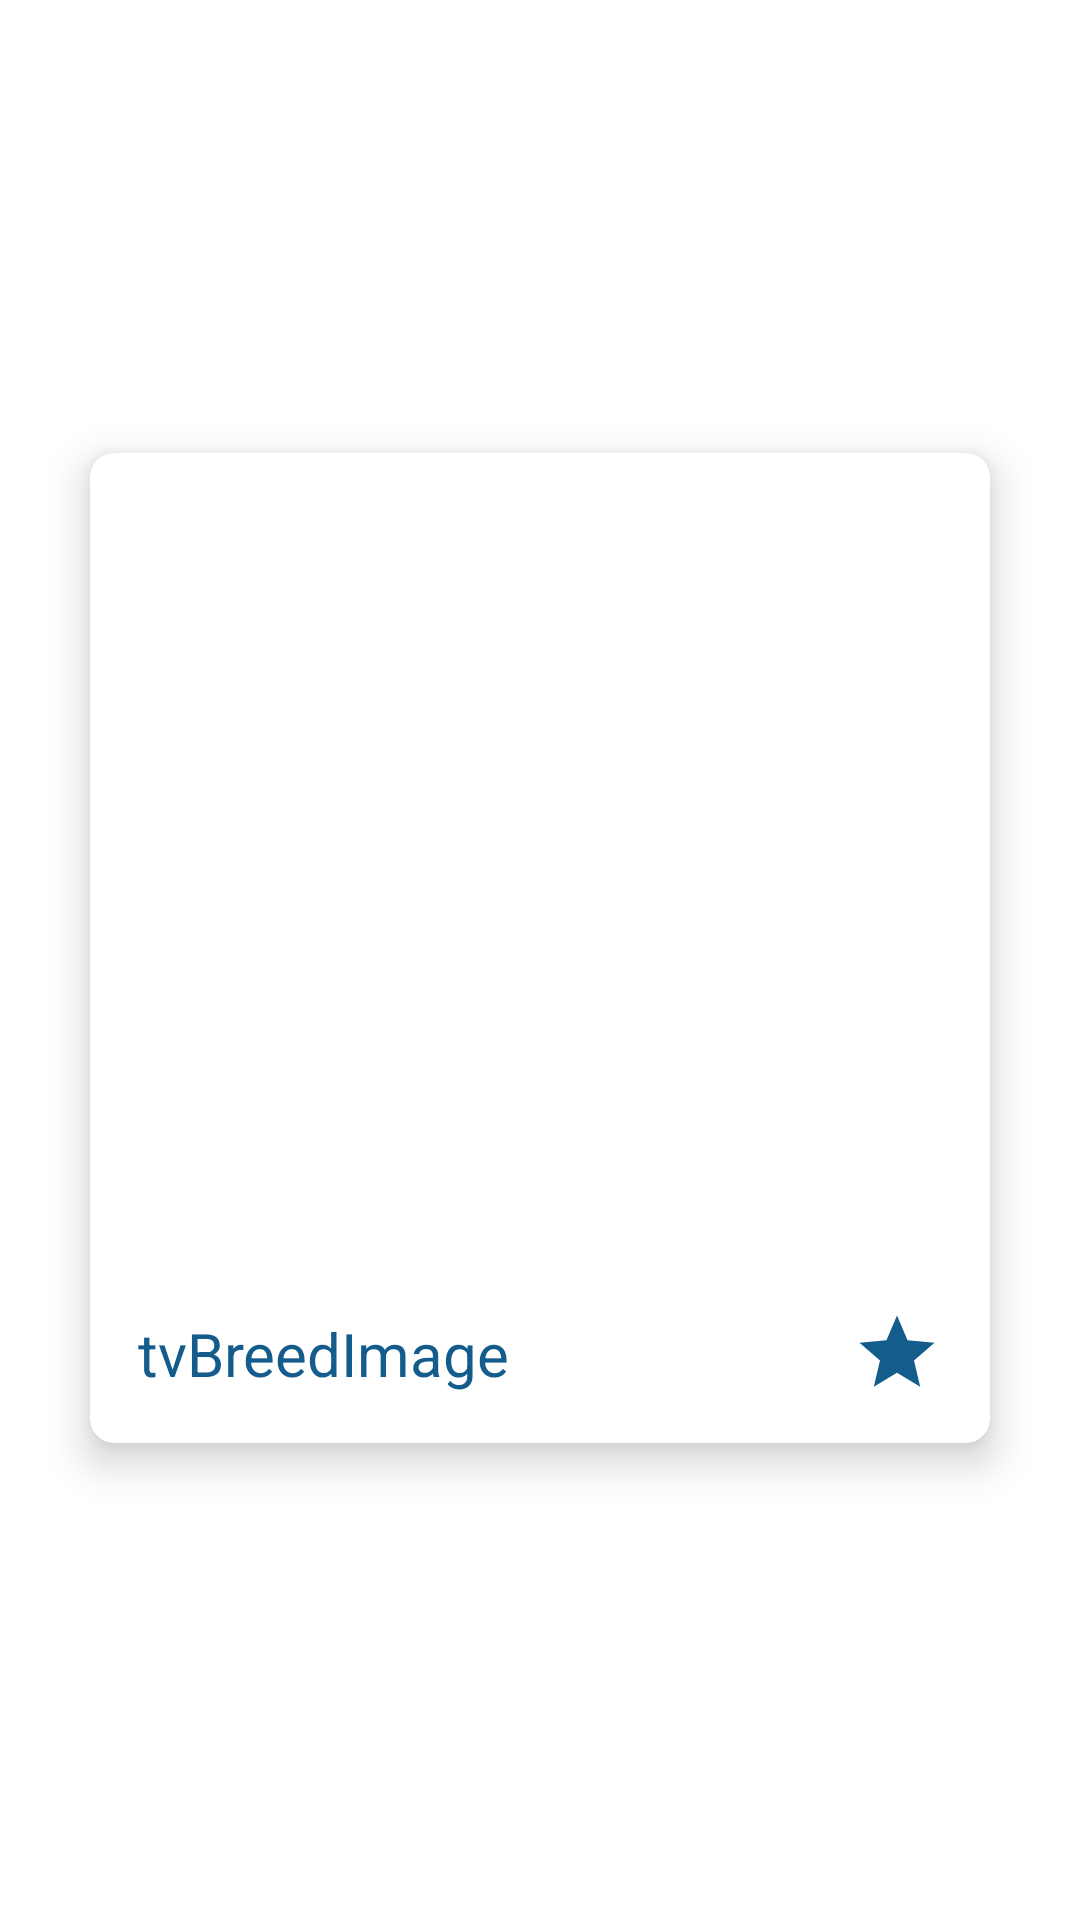

Named icons in this screenshot (1080 x 1920) and their bounding boxes, (x1, y1, x2, y2):
star: (860, 1316, 934, 1387)
